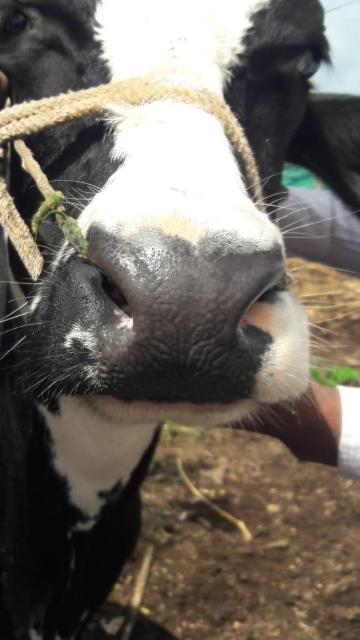Muzzle: (134, 251, 246, 389)
